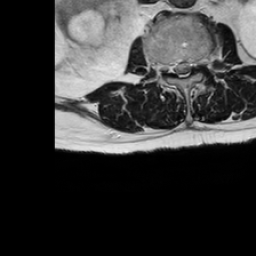CCS_stenosis: (180, 52, 187, 84)
LFS_normal: (194, 47, 202, 75)
LLS_normal: (187, 51, 194, 79)
RFS_normal: (164, 53, 172, 81)
RLS_normal: (172, 53, 180, 81)
